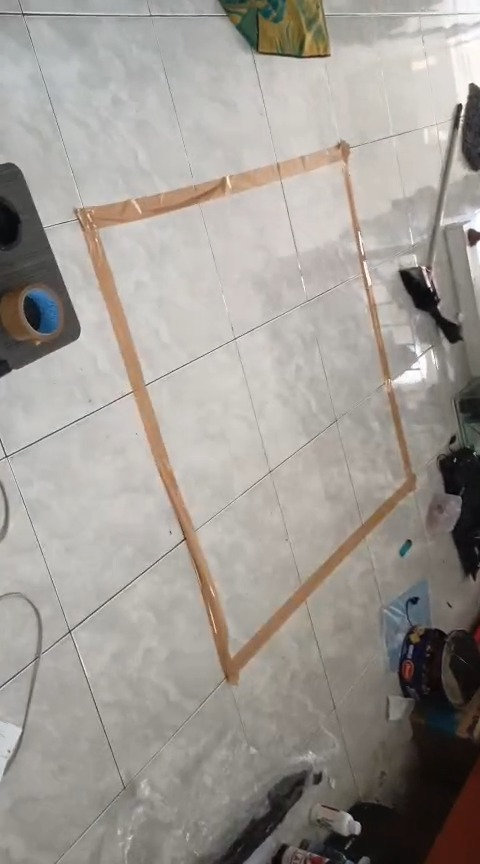floor marking: (76, 141, 415, 683)
